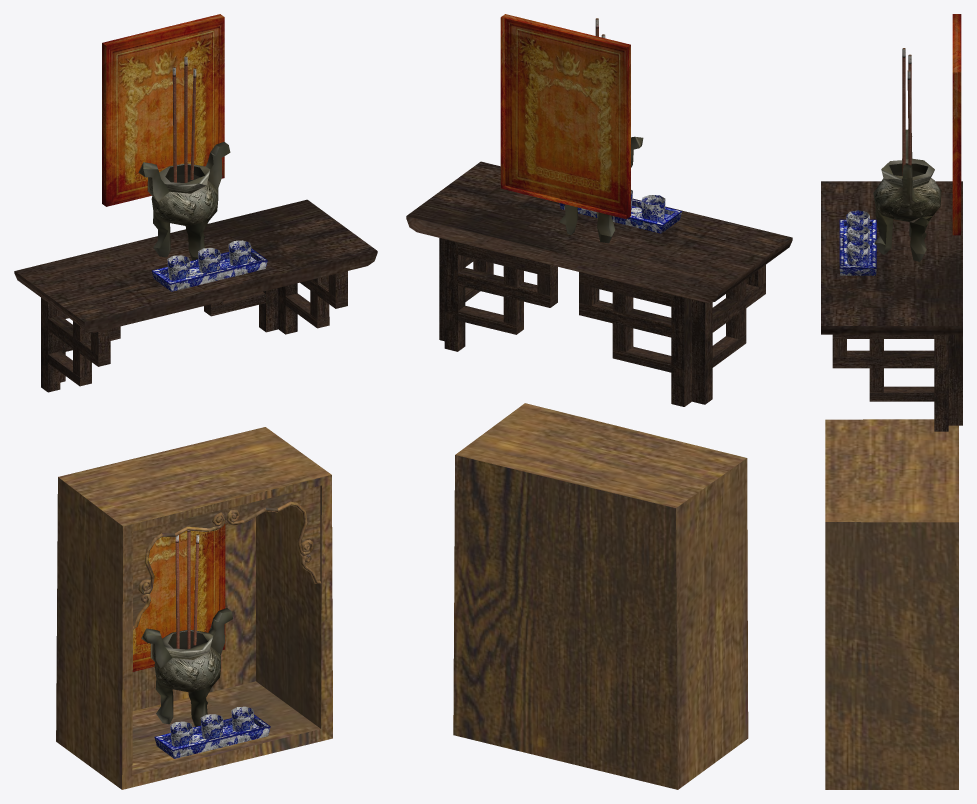
The model's file is altar.glb.
The picture shows the model from 3 angles, left to right: view 1: azimuth 30°, elevation 25°; view 2: azimuth 150°, elevation 25°; view 3: azimuth 270°, elevation 25°; orthographic projection. The views are drawn at different scales.
Parts seen in each view (by area): view 1: alter 2, alter 1; view 2: alter 2, alter 1; view 3: alter 2, alter 1.
Part boxes in pixels (x1,y1,x2,y2): alter 2: [56, 427, 332, 789]; alter 1: [14, 14, 377, 392]; alter 2: [453, 403, 748, 789]; alter 1: [406, 14, 792, 406]; alter 2: [825, 419, 958, 789]; alter 1: [821, 14, 962, 431].
Bounding box in the file's own units: 2.65 × 5.93 × 1.1.
1 material, 1 textured.
